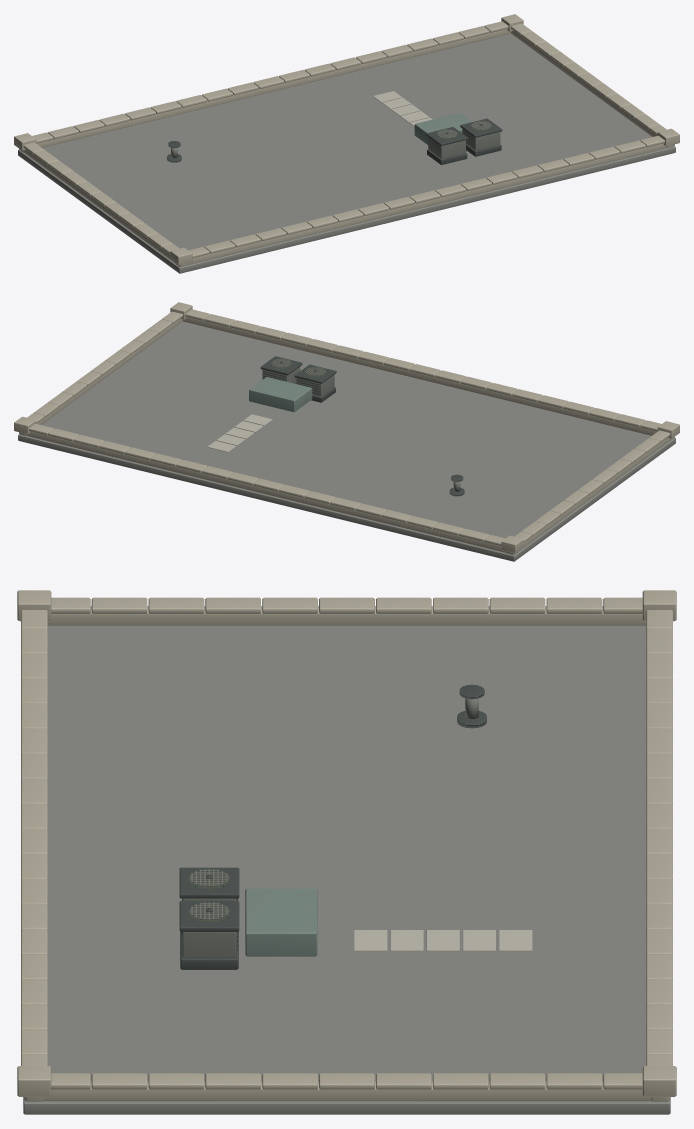
Rendered from Medical_Roof.fbx.
3 views of the same model, one above another, from view 1: azimuth 30°, elevation 25°; view 2: azimuth 150°, elevation 25°; view 3: azimuth 270°, elevation 25° (orthographic). The views are drawn at different scales.
Visible parts, largest first — view 1: Medical_Roof; view 2: Medical_Roof; view 3: Medical_Roof.
Boxes of the visible parts, x1=… form: Medical_Roof: x1=14, y1=14, x2=679, y2=273; Medical_Roof: x1=14, y1=302, x2=679, y2=561; Medical_Roof: x1=17, y1=590, x2=676, y2=1114.
Size of the model in its own units: 1854 by 108 by 1054.
